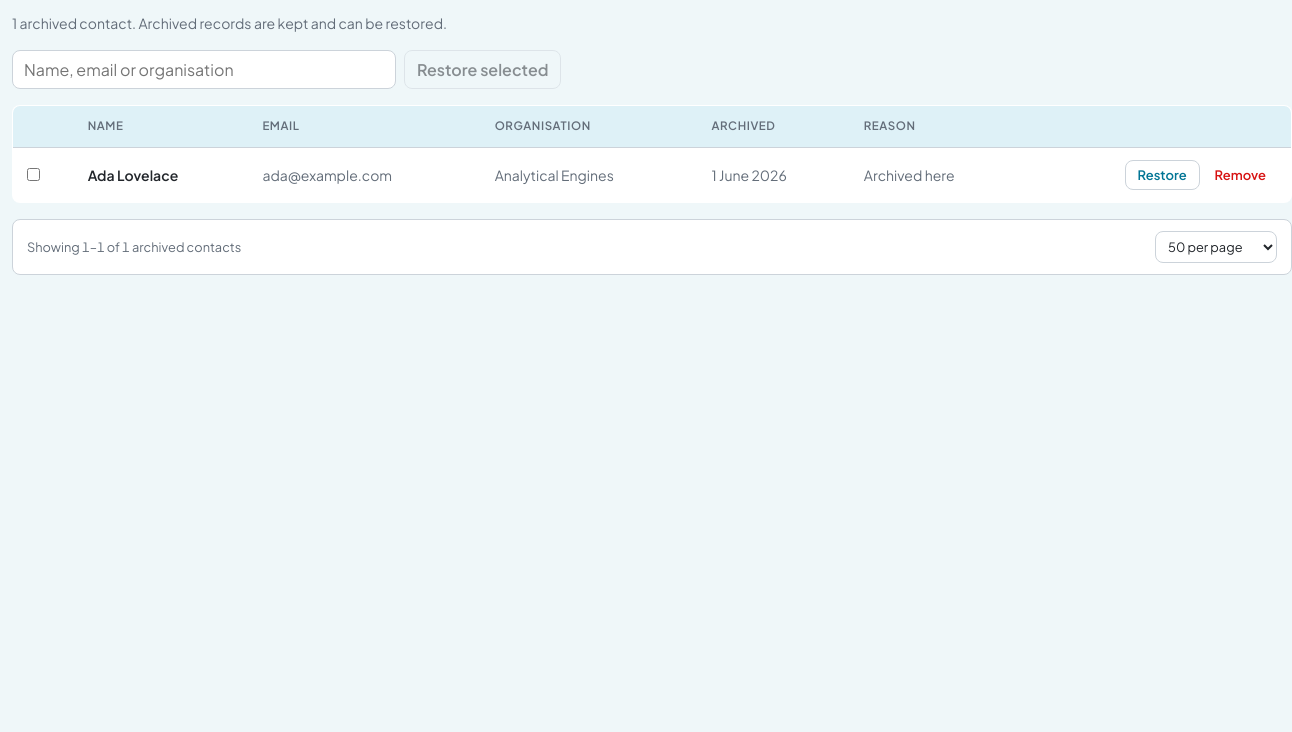
ArchiveView › restores a manually archived contact without a consent warning, and says so
The image size is (1292, 732).
Step 1. Click the button with test id "restore-c1" → coordinates (1162, 175), box [1125, 160, 1200, 190]
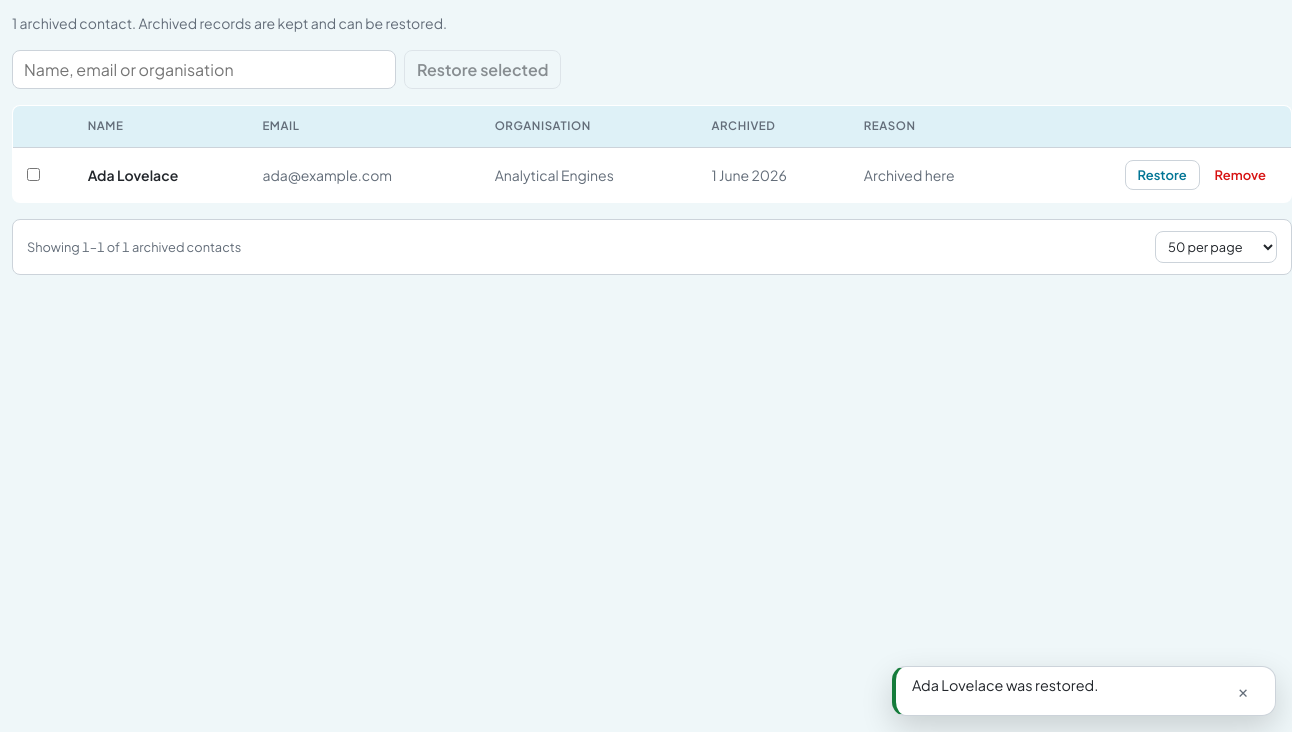
Expected: the list item with test id "toast-success" shows "Ada Lovelace was restored.", [912, 676, 1098, 694]
